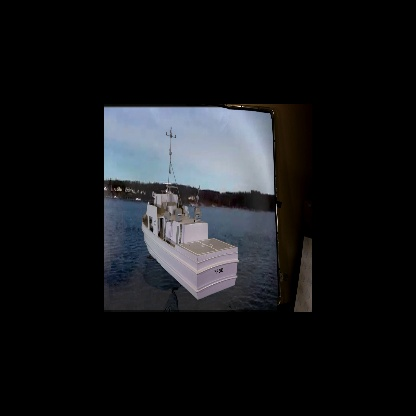YP689: (141, 128, 239, 301)
